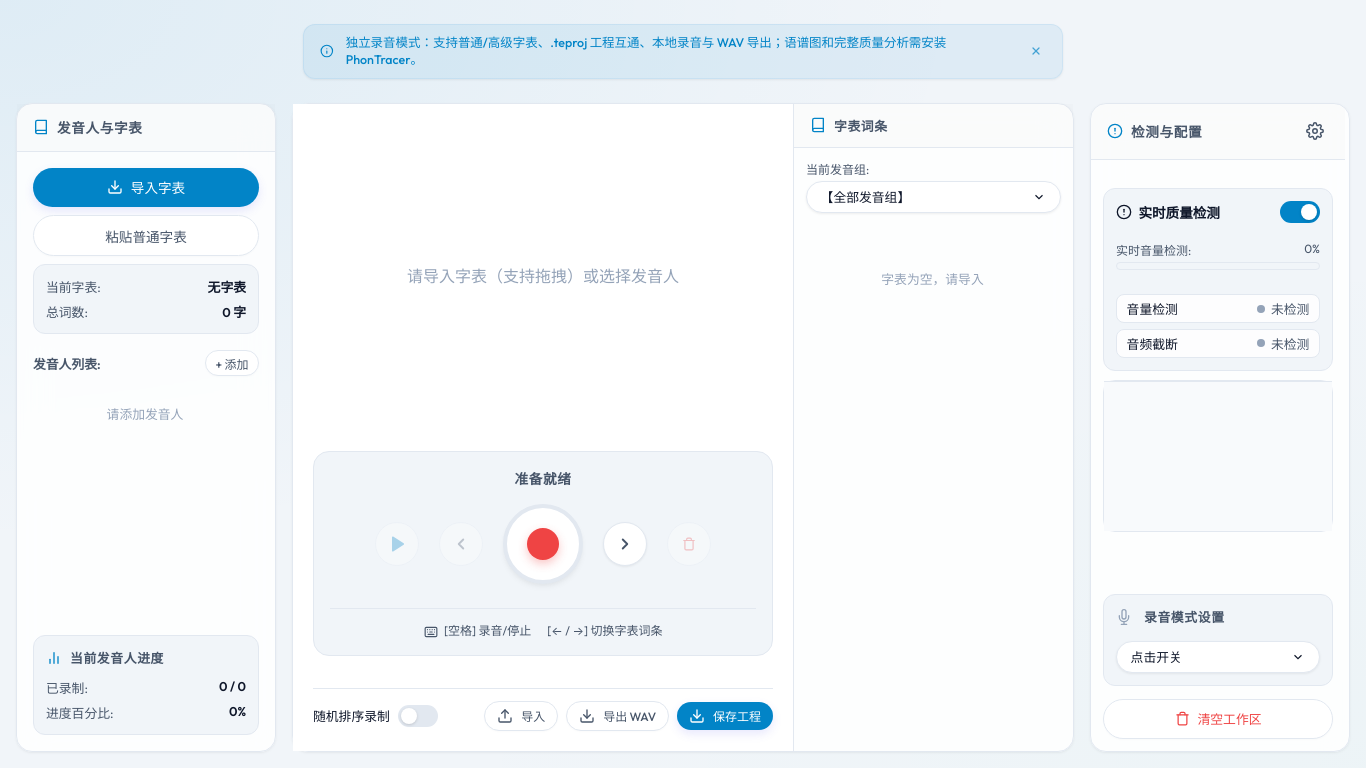
it: 独立软件模式主界面 › 能够关闭独立录音模式提示横幅
Expected: the text "独立录音模式" is shown, [346, 35, 946, 67]
Click the button named "关闭提示" at (1036, 51), box [1026, 41, 1046, 61]
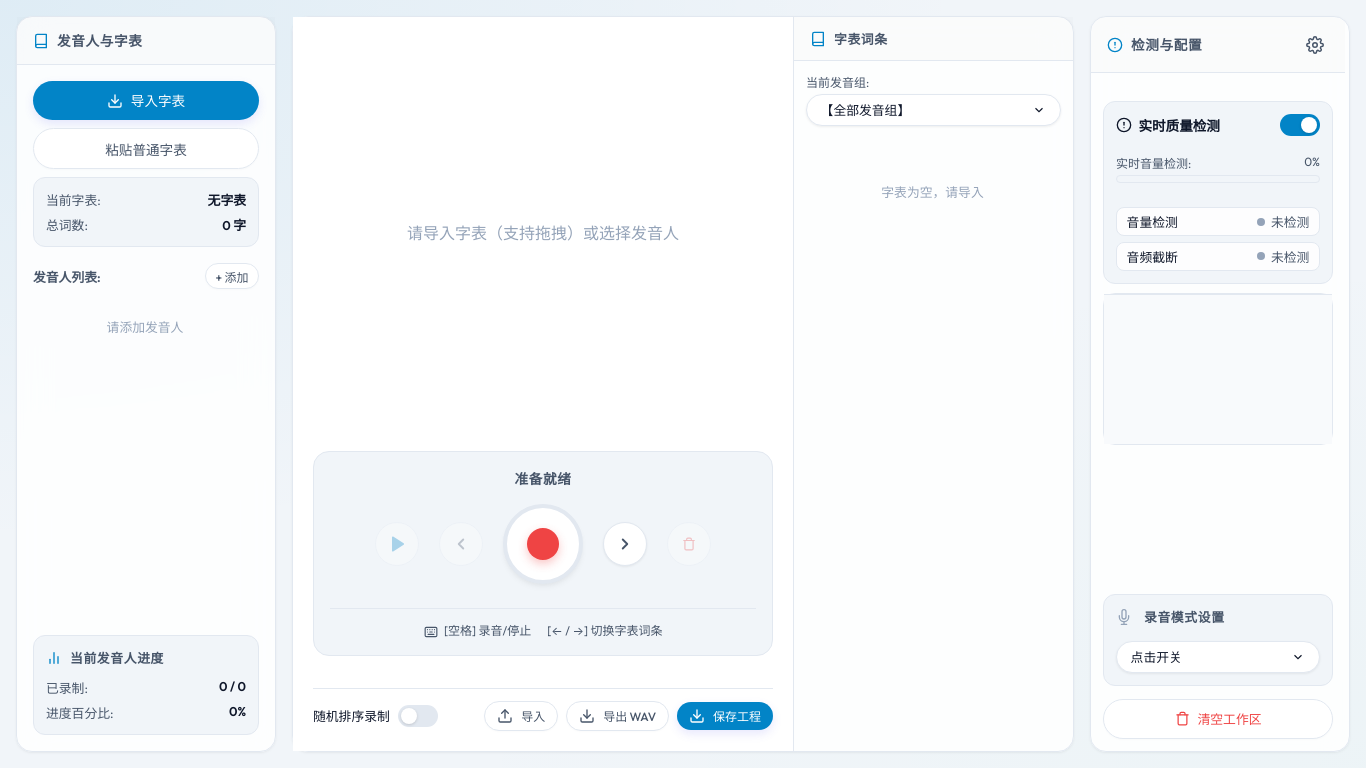
Expected: the text "独立录音模式" is gone
